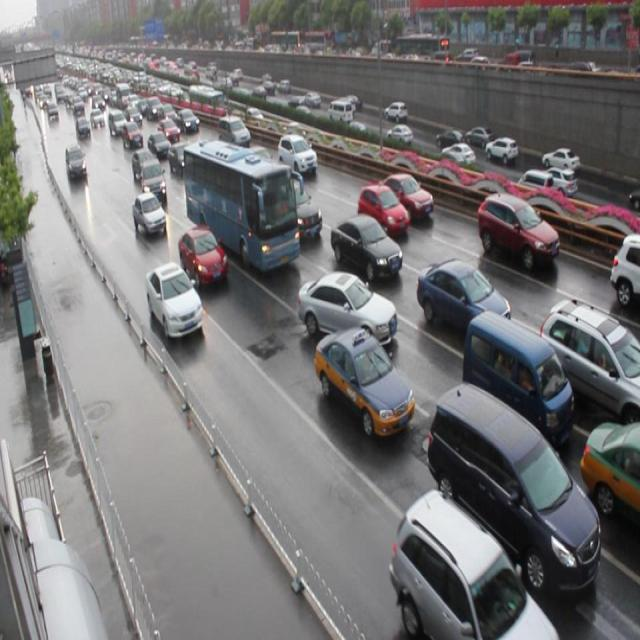car: (389, 487, 555, 640), (537, 296, 640, 427), (316, 324, 414, 436), (296, 270, 397, 347), (416, 256, 510, 338), (577, 418, 640, 528), (475, 188, 560, 269), (329, 212, 404, 282), (145, 261, 204, 341), (177, 222, 229, 290), (270, 176, 322, 241), (377, 169, 433, 223), (357, 182, 407, 240), (608, 230, 640, 305), (275, 131, 318, 177), (131, 190, 168, 238), (140, 158, 168, 203)
truck: (427, 382, 600, 595), (462, 308, 571, 439), (217, 111, 251, 146)
van: (182, 139, 299, 272)
